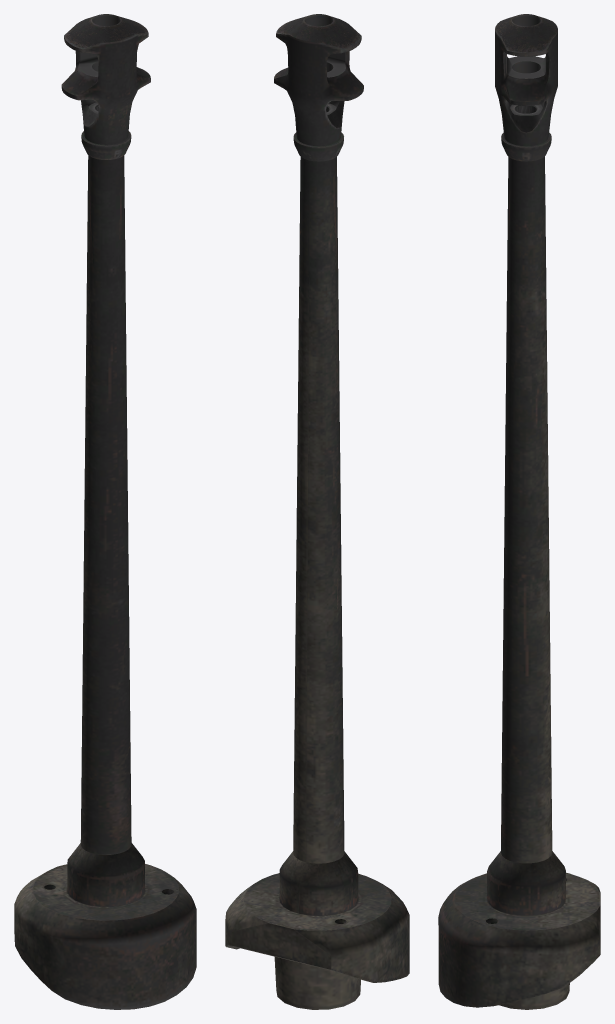
The model's file is Gun_01.glb.
3 renders of one model, left to right at view 1: azimuth 30°, elevation 25°; view 2: azimuth 150°, elevation 25°; view 3: azimuth 270°, elevation 25°, orthographic.
Parts seen in each view (by area): view 1: set_0_group_0; view 2: set_0_group_0; view 3: set_0_group_0.
Boxes of the visible parts, left/top/right/bottom form: set_0_group_0: left=14, top=14, right=196, bottom=1009; set_0_group_0: left=225, top=14, right=409, bottom=1009; set_0_group_0: left=438, top=14, right=600, bottom=1009.
Size of the model in its own units: 0.8715 by 5.32 by 0.8039.
Materials: 1 (1 with a texture image).
